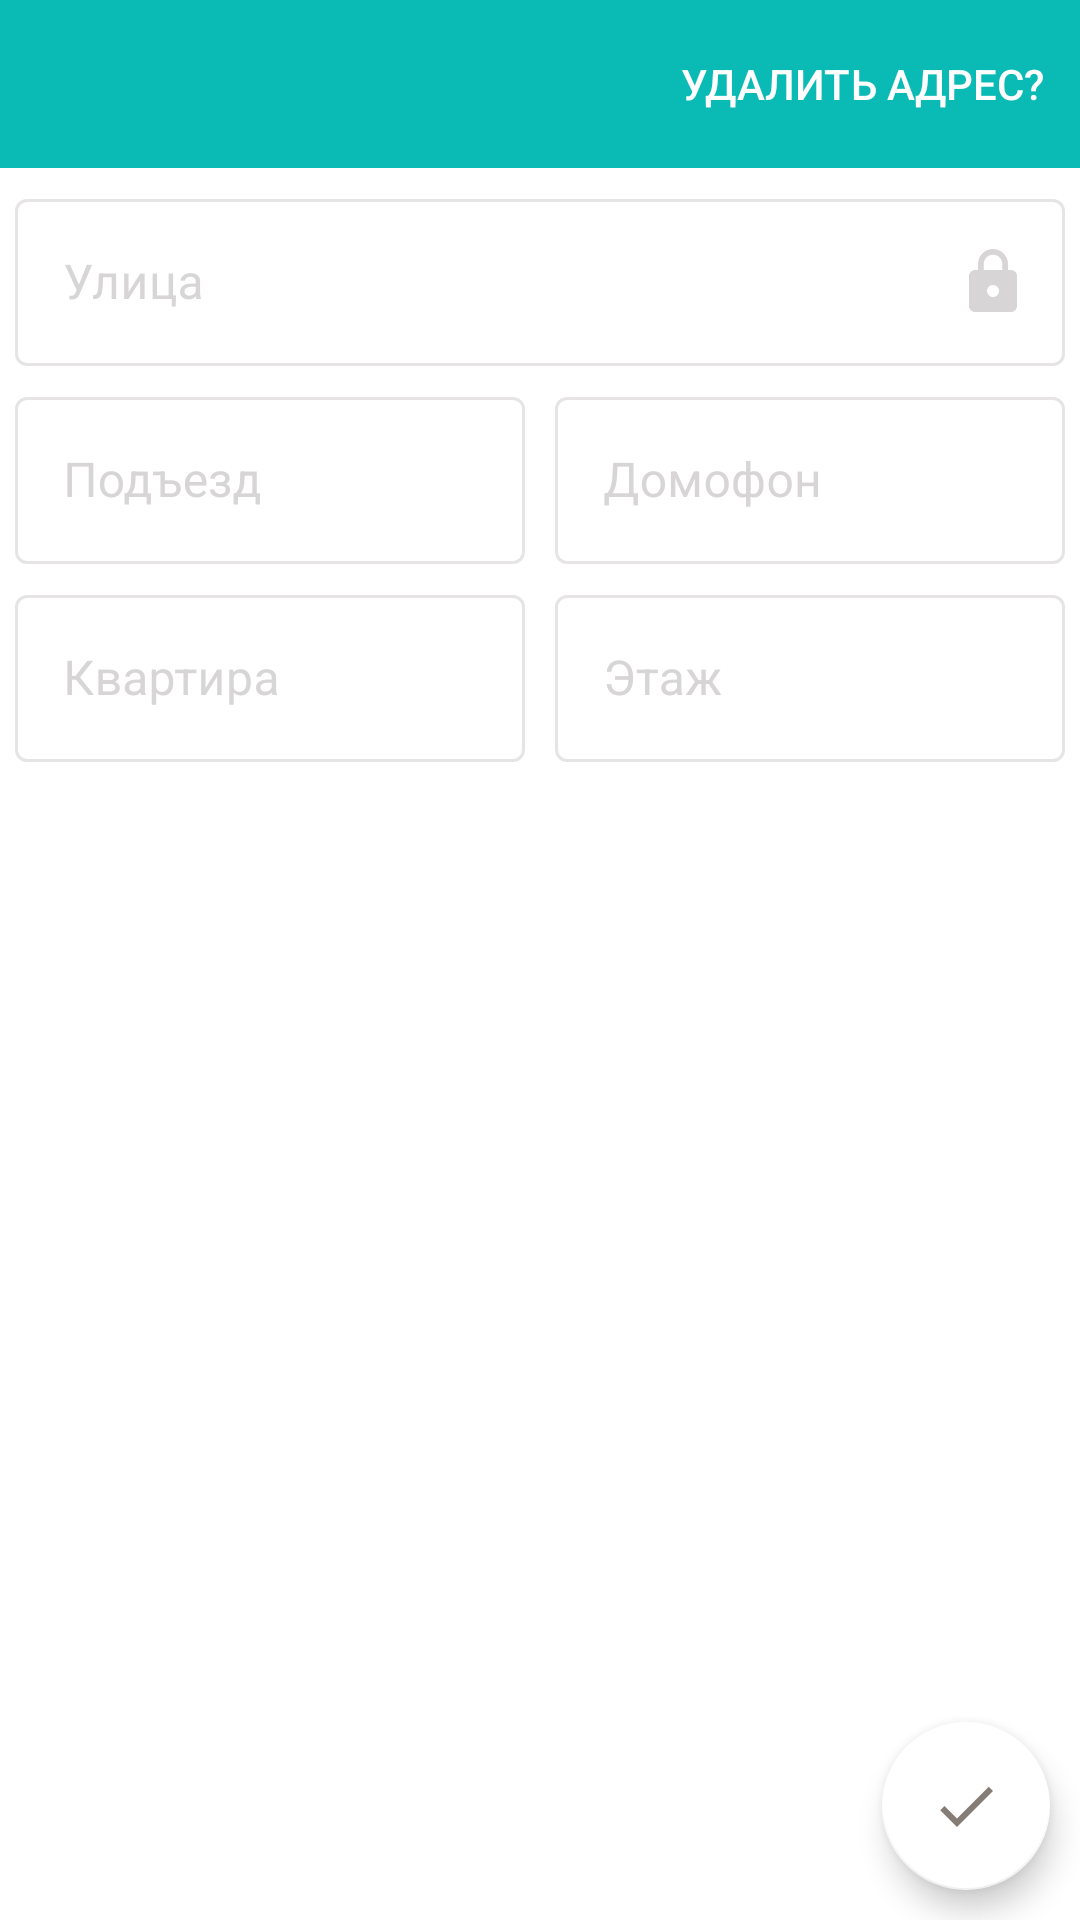

Point at icon controls on the screen. Image size 1080px x 1920px, points as (x=x, y=y).
complete: (x=969, y=1838)
